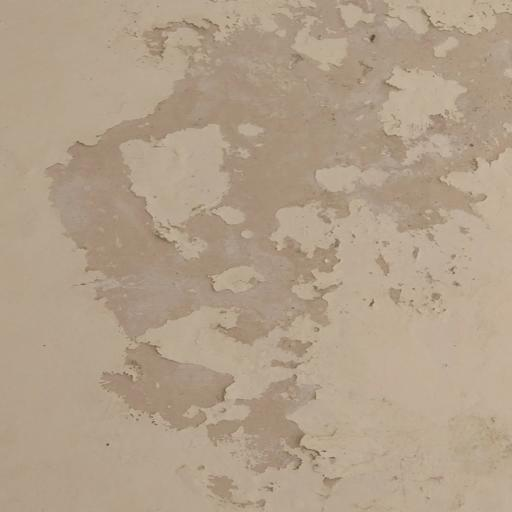peeling: (48, 6, 512, 495)
